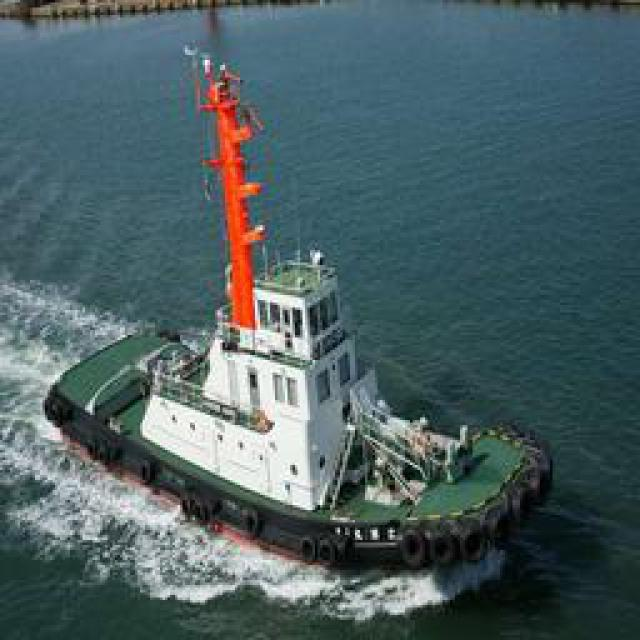Ship: (45, 64, 555, 577)
